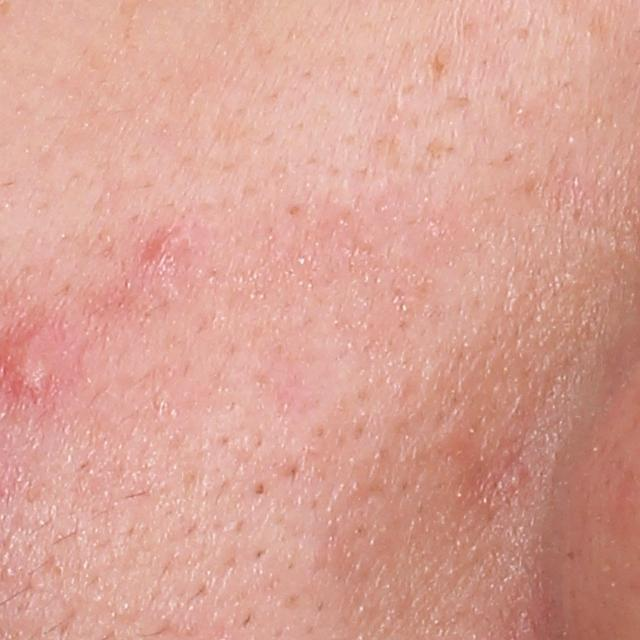melasma: (428, 45, 456, 81)
papule: (0, 326, 50, 392)
